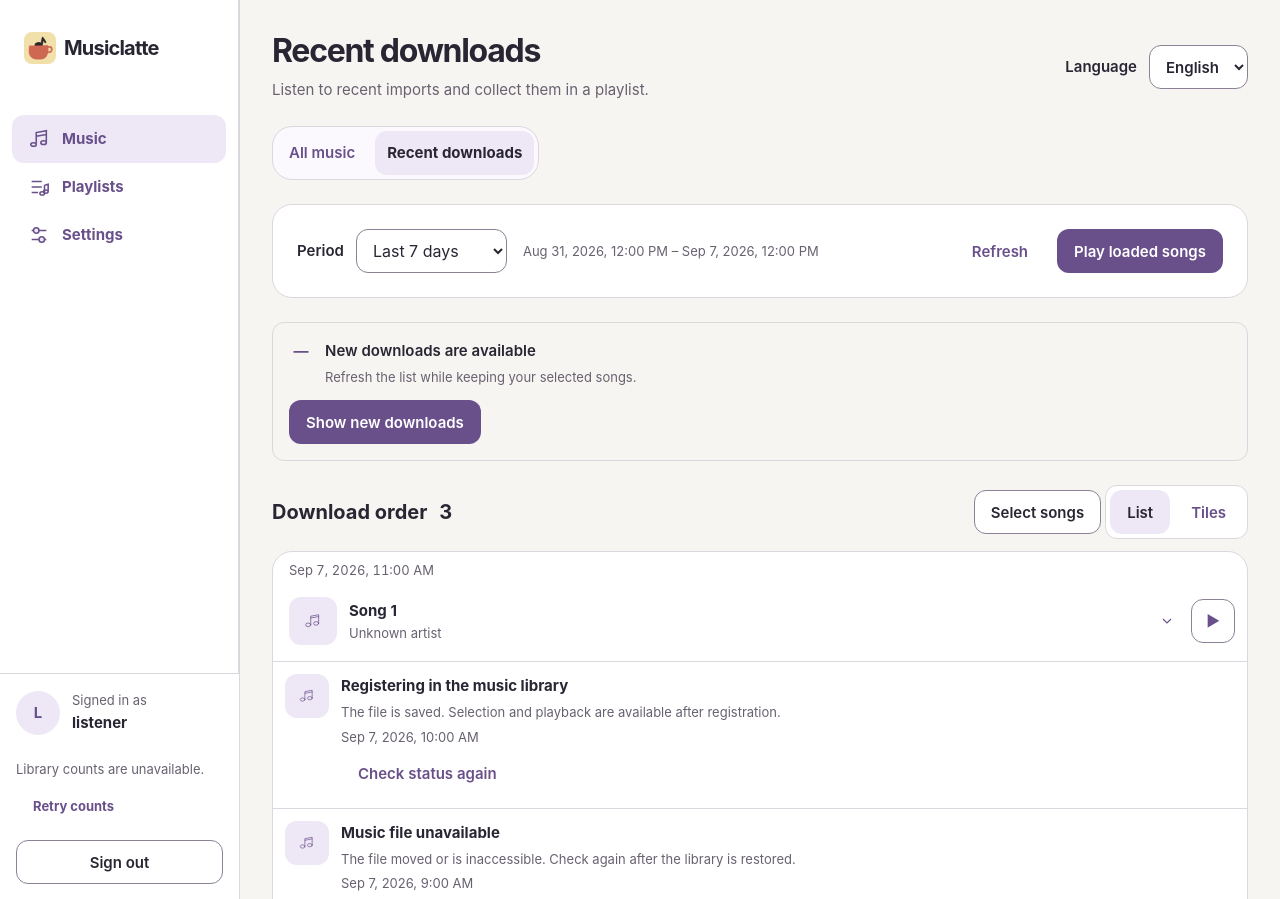
Test case: recent route › should focus the heading after applying the new-item notice
Expected: the text "Song 1" is shown, [349,601,397,620]
Click the button "Show new downloads". click: {"x": 385, "y": 422}
box: [289,400,481,444]
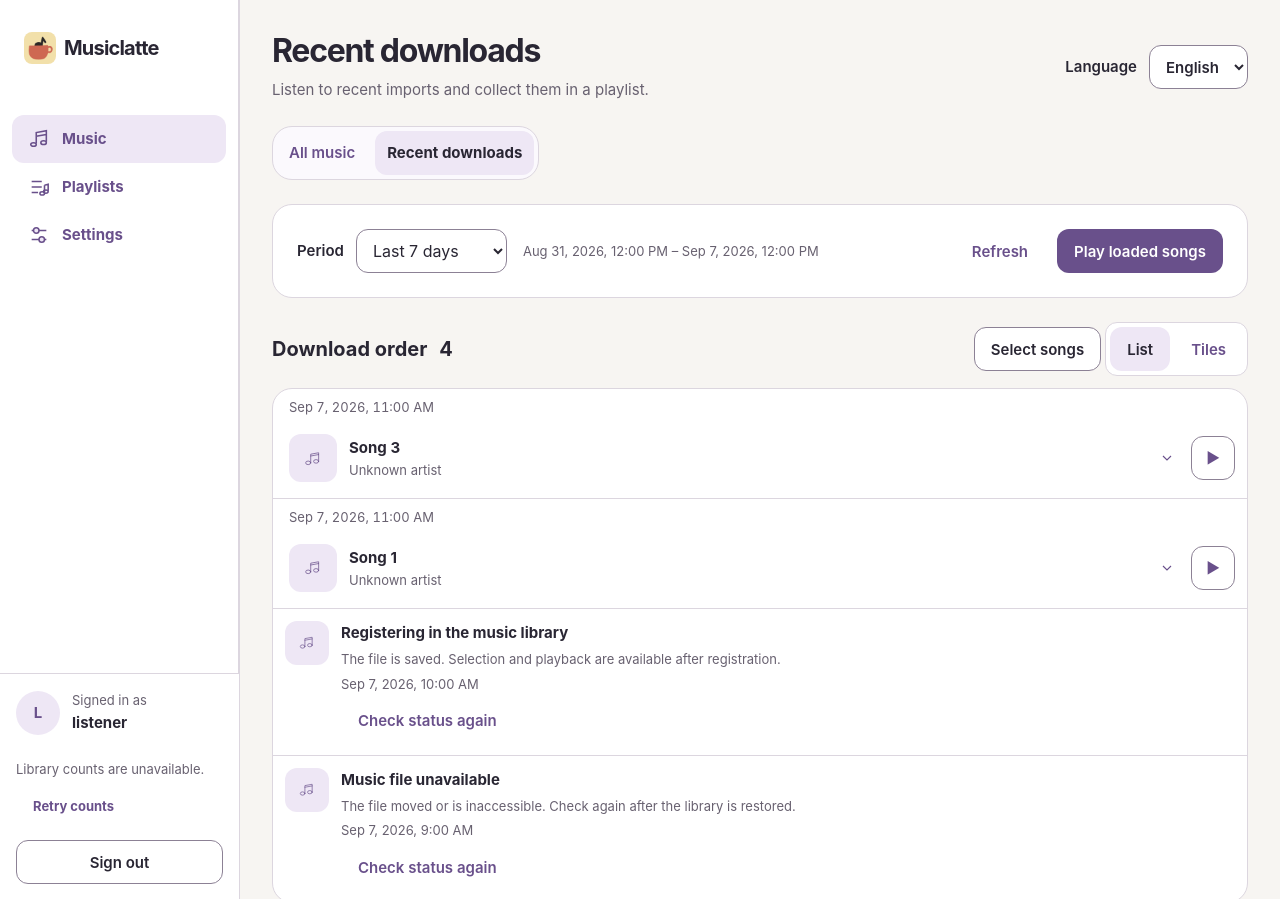
Expected: the text "Song 3" is shown, [349,438,400,457]
